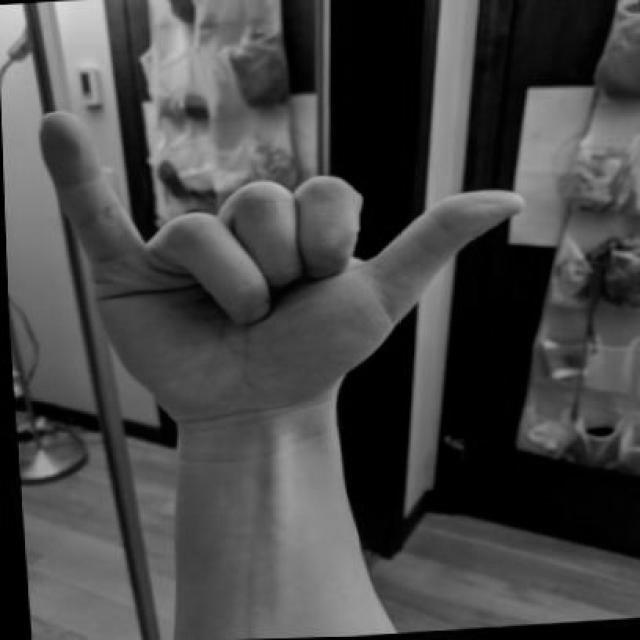Y: (30, 81, 544, 432)
